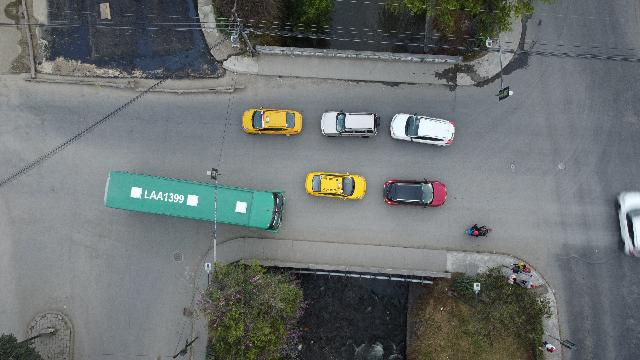Vehiculo: (390, 112, 454, 146), (384, 179, 446, 207), (242, 107, 302, 135), (306, 172, 366, 200), (616, 190, 640, 258), (320, 110, 380, 136)
